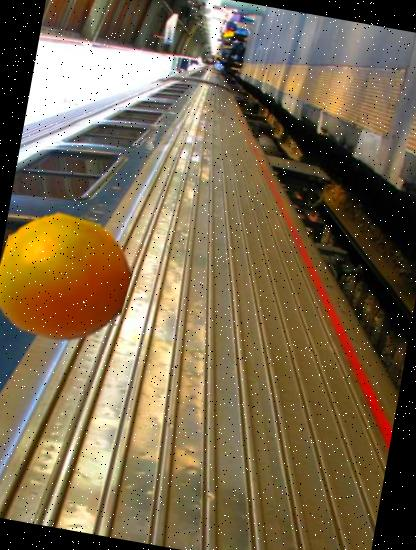Cherry: (0, 202, 139, 353)
